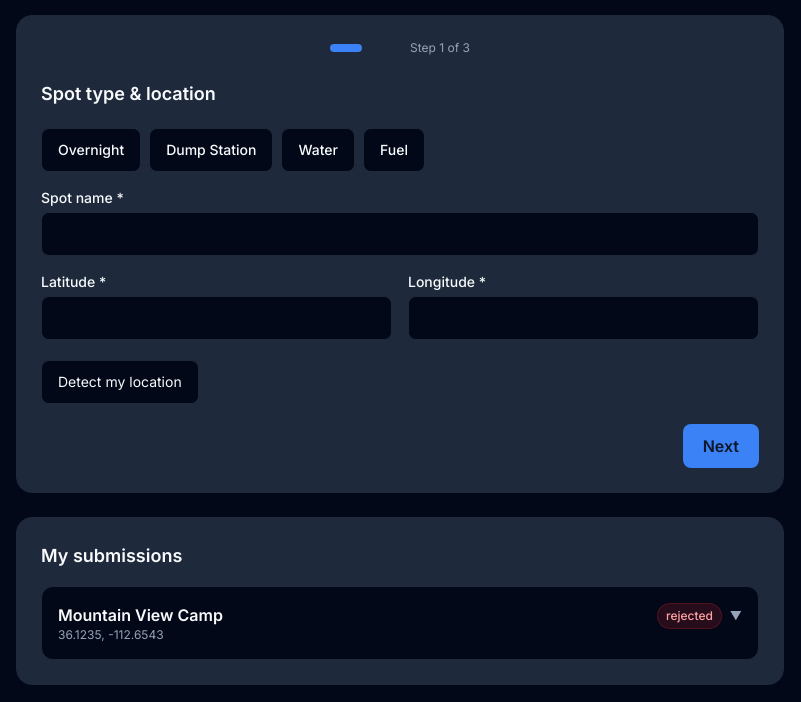
Test: SuggestSpotScreen › expands submission card to show detail on click
(page scrolled)
Expected: the text "Mountain View Camp" is shown, 58,603 -> 223,627
Expected: the text "Nice spot near creek" is not shown
// Click to expand
Click the button "Mountain View Camp".
click(140, 615)  # box 41,586 -> 759,660
(page scrolled)
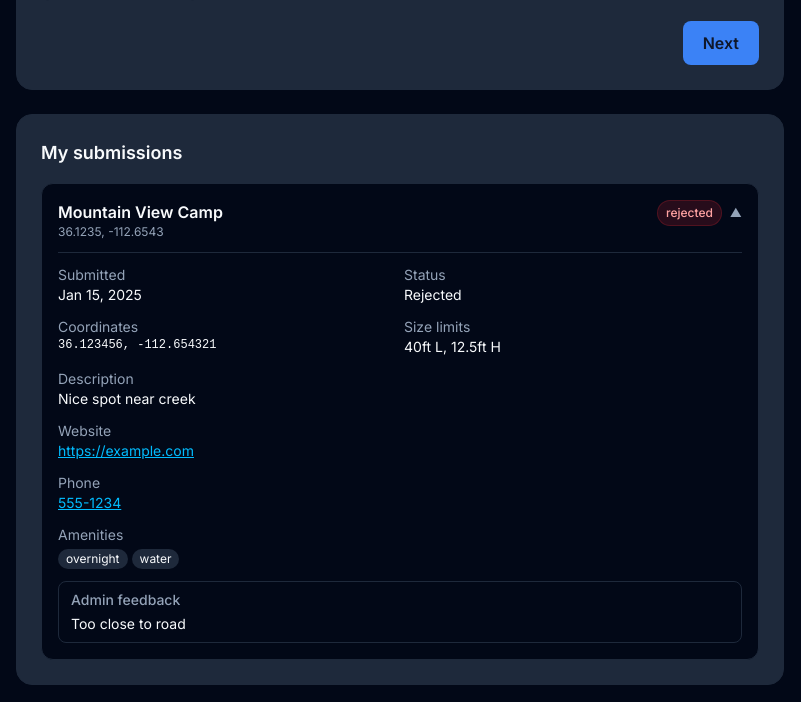
Expected: the text "Nice spot near creek" is shown, 58,390 -> 196,407
Expected: the text "Jan 15, 2025" is shown, 58,286 -> 142,303
Expected: the text "Rejected" is shown, 404,286 -> 462,303
